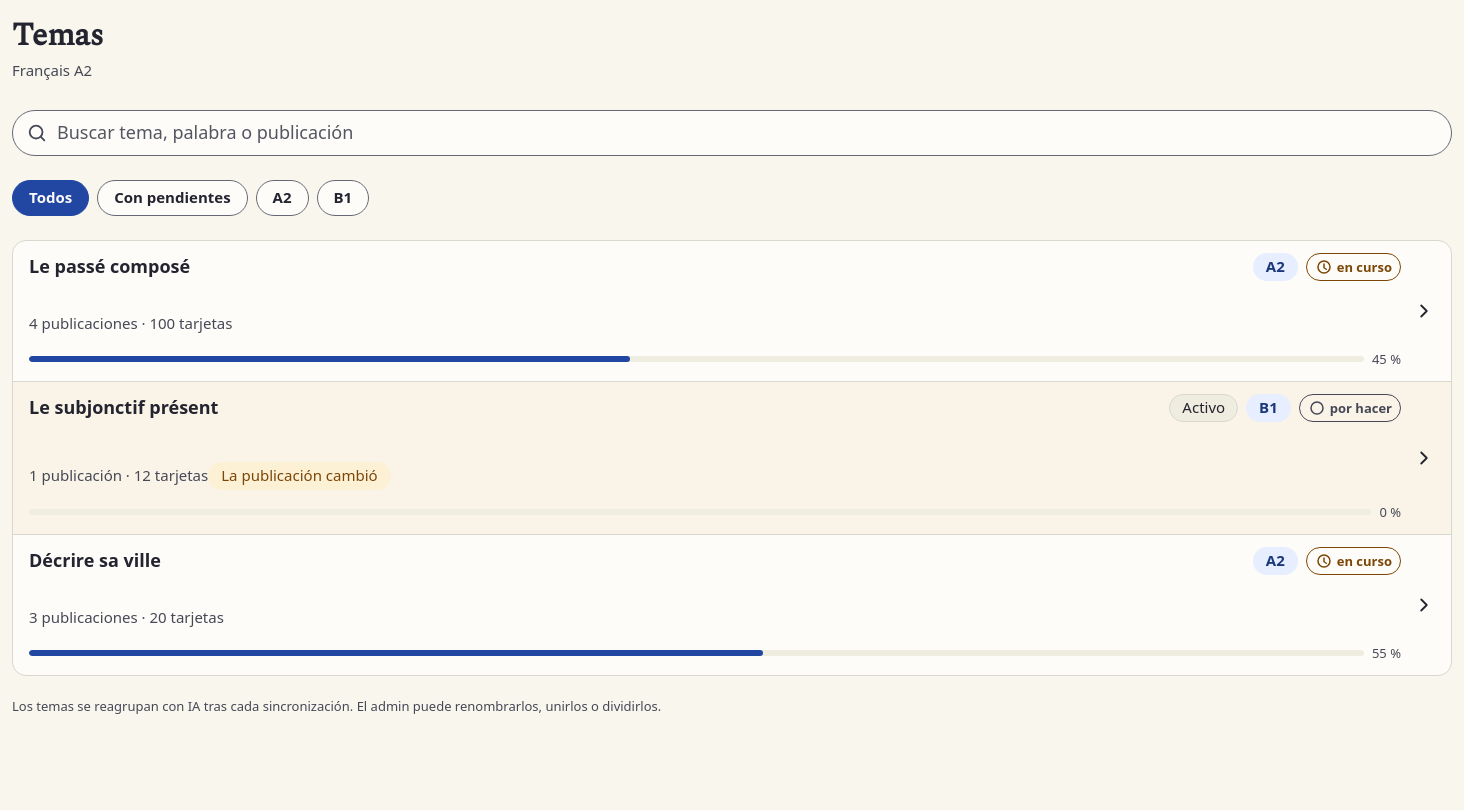
it: el filtro no oculta el tema activo sin decirlo
The width and height of the screenshot is (1464, 810).
Check: the link "Le subjonctif présent" is shown, box [13,382,1451,534]
Check: the text "temas ocultos por el filtro" is not shown
Type "passé" into the search field named "Buscar temas".
click(732, 133); type("passé")  # box [12,110,1452,156]
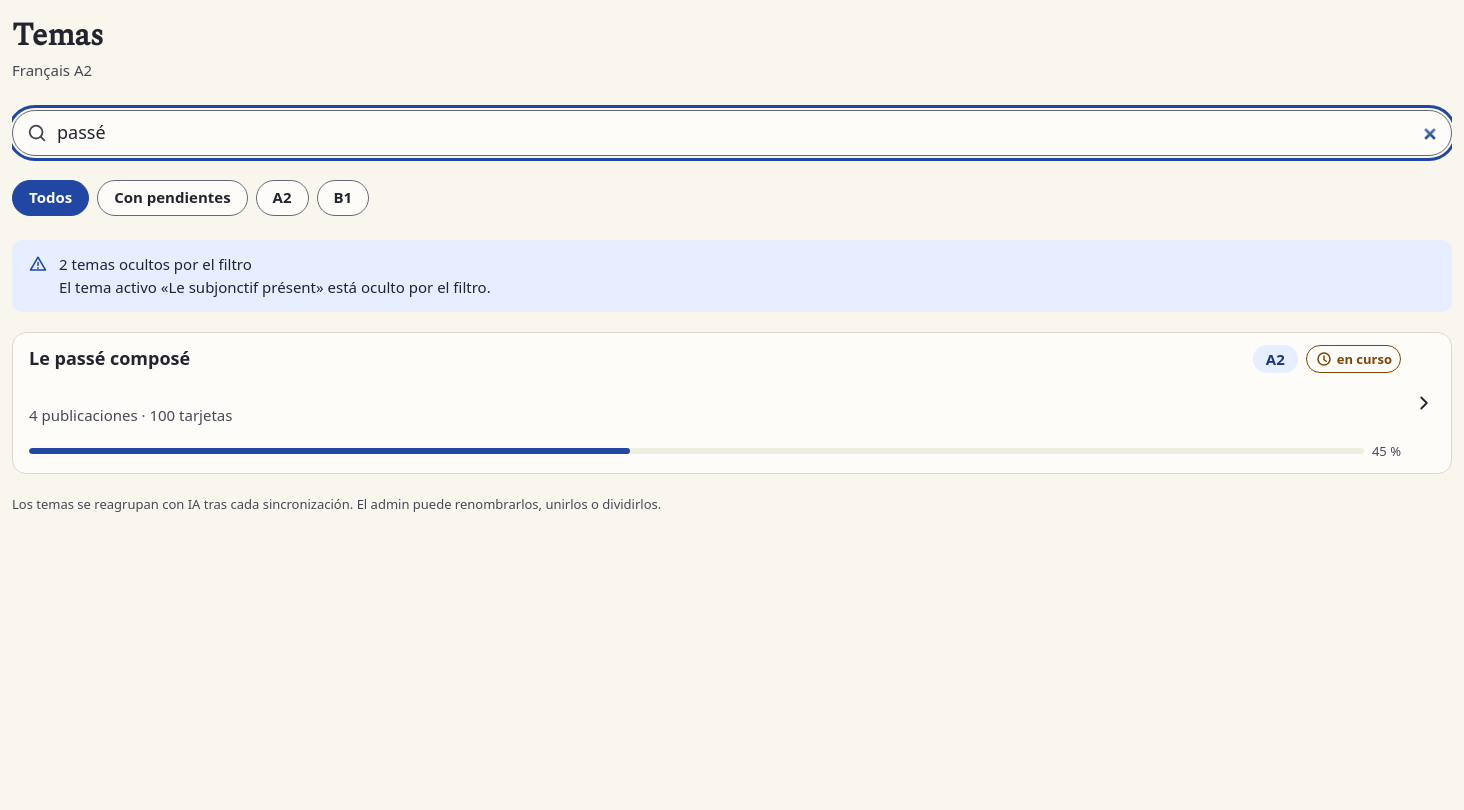
Check: the text "2 temas ocultos por el filtro" is shown, box [59,254,252,274]
Check: the text "El tema activo «Le subjonctif présent» está oculto por el filtro." is shown, box [59,277,491,297]
